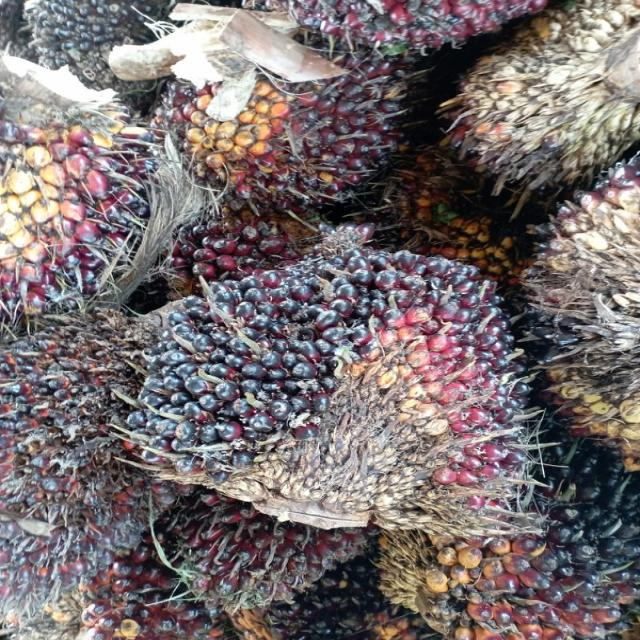fraksi 00: (138, 251, 546, 527), (21, 0, 177, 77)
fraksi 1: (168, 50, 416, 209)
